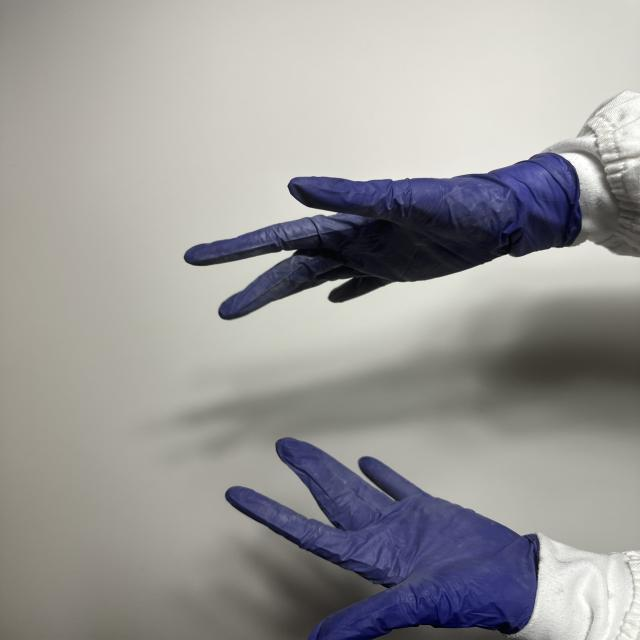gloves_contaminated: (185, 153, 581, 319), (226, 438, 541, 640)
